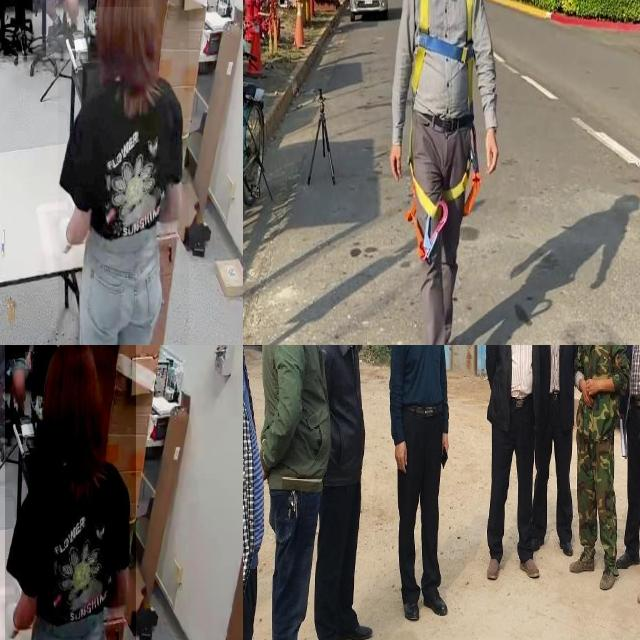Harness: (406, 152, 477, 262), (413, 0, 475, 108), (462, 160, 481, 218)
hand_noglove: (25, 352, 31, 370)
head_nohelmet: (42, 345, 99, 393)
person: (58, 0, 189, 345), (5, 345, 136, 640), (0, 345, 35, 444), (46, 0, 88, 59), (0, 0, 32, 56)
